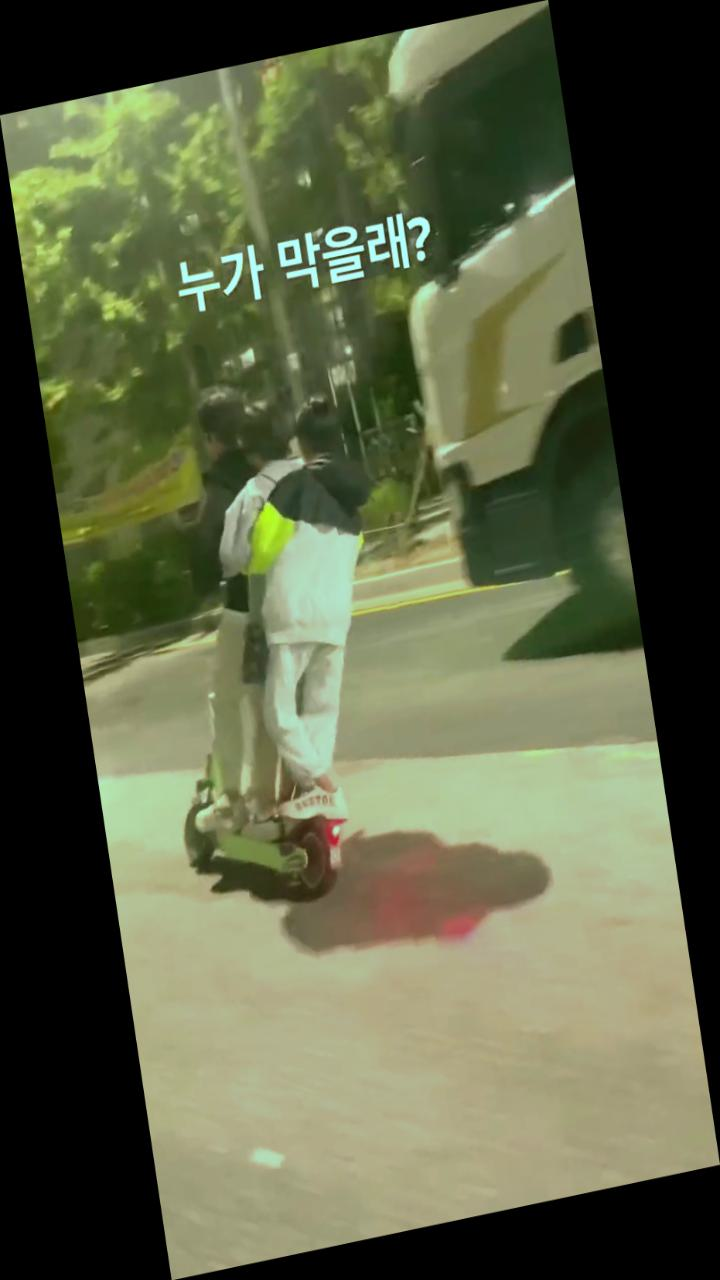multiple: (117, 360, 425, 928)
